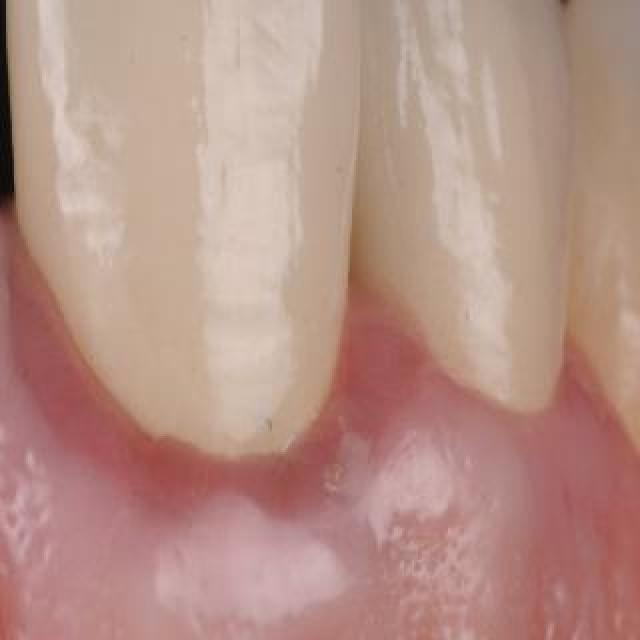spacing: (0, 0, 88, 286)
